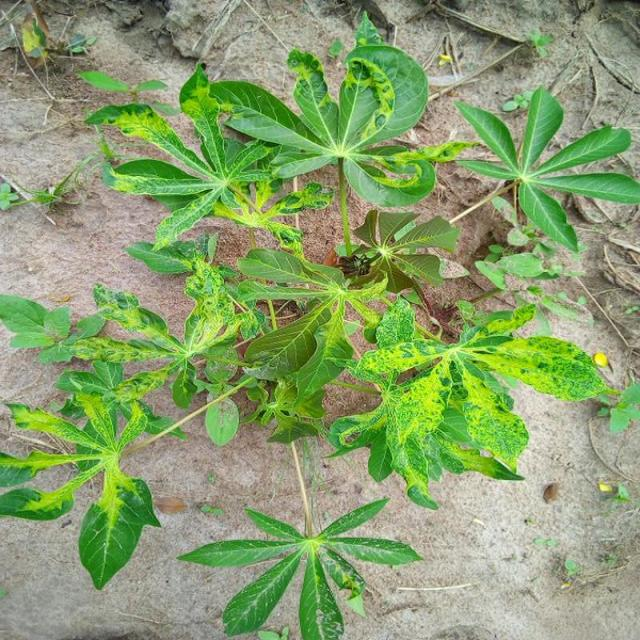cassava leaf: (1, 11, 635, 634), (327, 296, 618, 509), (452, 83, 638, 253), (77, 473, 161, 590)
